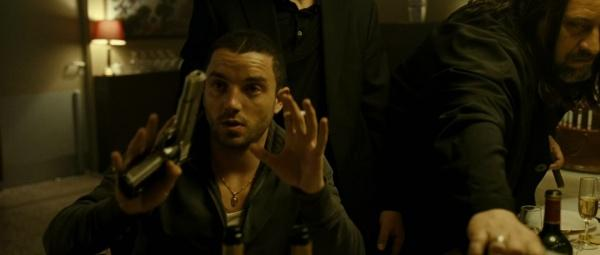Gun: (117, 68, 210, 202)
